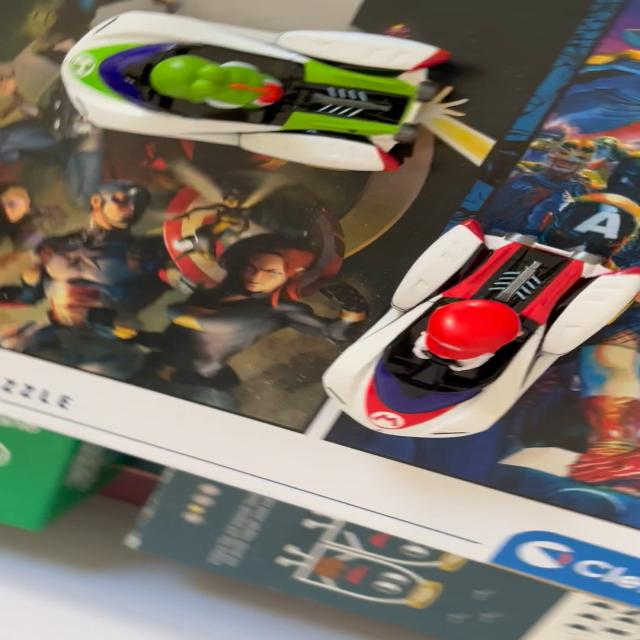mario: (292, 206, 636, 444)
yoshi: (34, 0, 515, 189)
